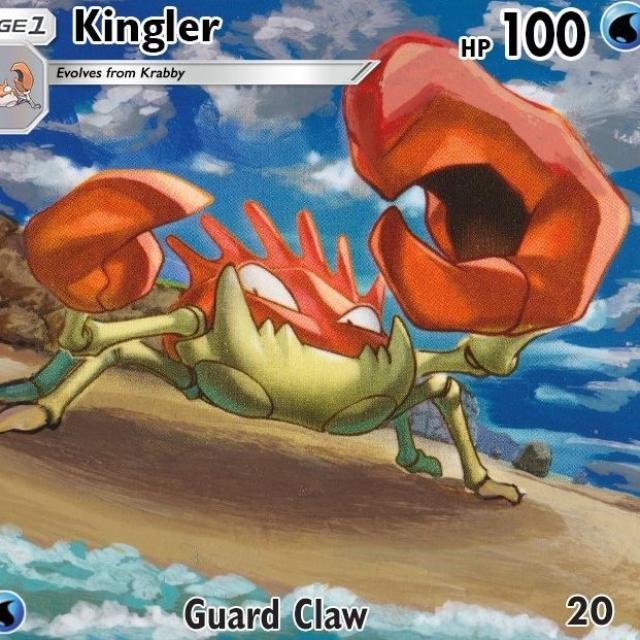Kingler: (18, 146, 536, 462)
